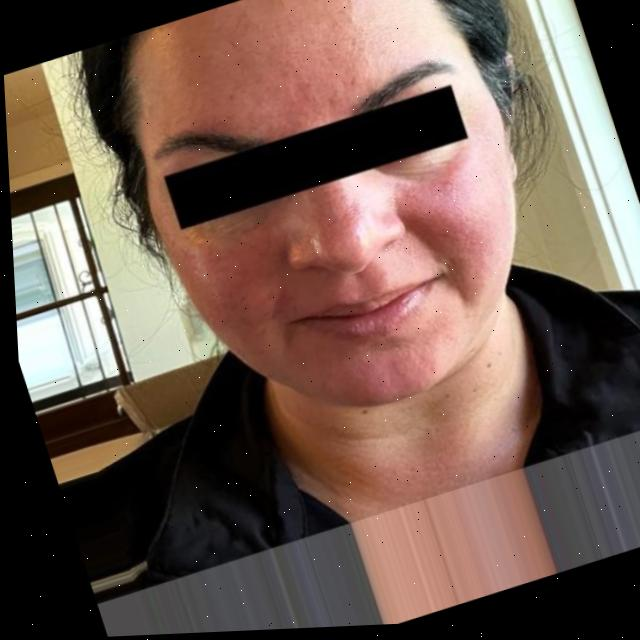Rosacea: (152, 143, 512, 425), (196, 0, 402, 146)
